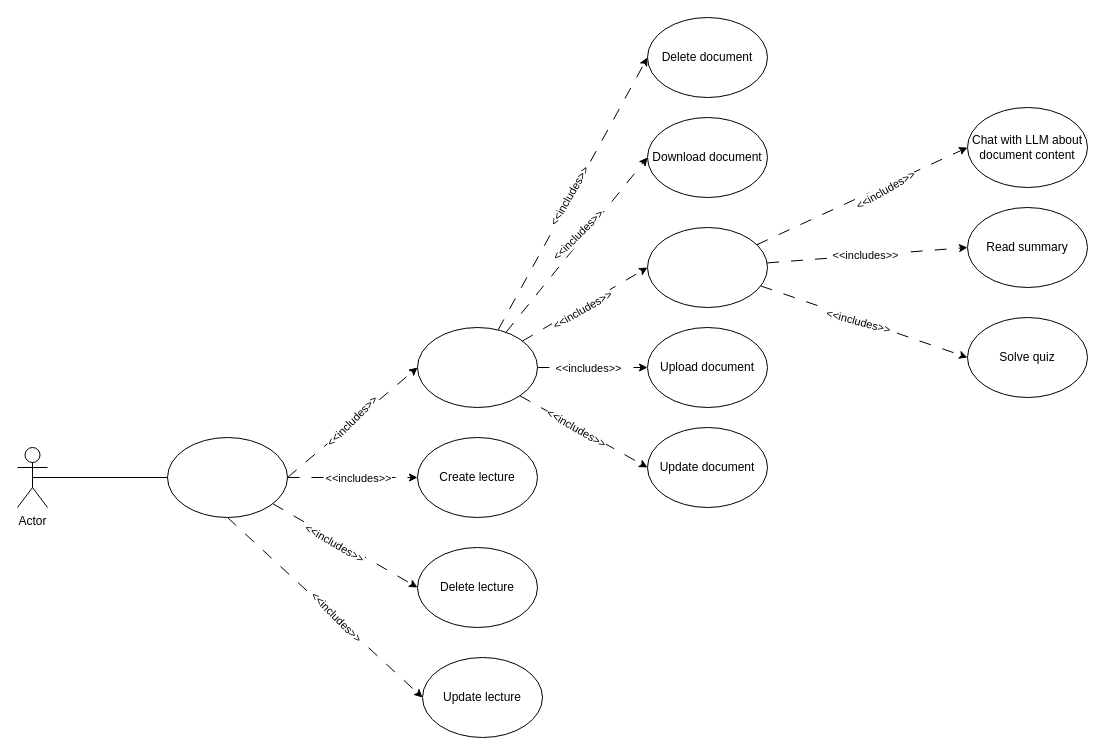
This 1105x755 diagram has some shape labels left out. Each missing label, with the centre of its shape:
"Login via Clerk" goes at [227,477].
"View lectures" goes at [477,367].
"View uploaded documents" goes at [707,267].
